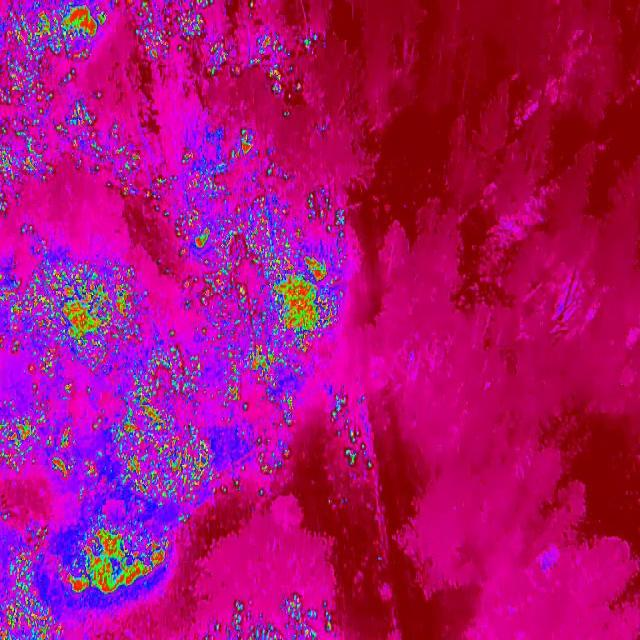fire: (232, 191, 354, 399), (145, 135, 258, 315), (0, 254, 146, 377), (0, 108, 139, 214), (110, 408, 220, 508), (60, 516, 169, 596), (122, 0, 231, 78), (125, 344, 242, 411), (0, 380, 77, 479), (0, 0, 109, 68), (205, 592, 338, 640), (248, 27, 320, 105), (240, 395, 304, 480), (327, 392, 372, 474), (0, 525, 47, 595), (0, 596, 67, 640), (0, 62, 51, 114), (82, 457, 98, 478), (196, 324, 208, 341), (243, 0, 255, 15), (166, 327, 180, 338)
